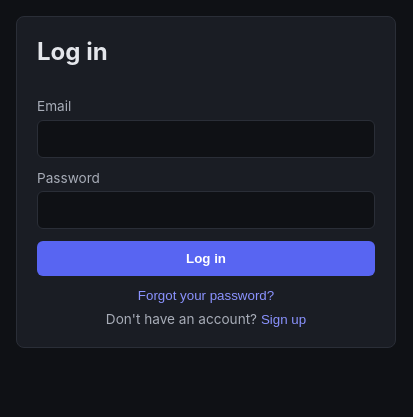
Test case: log in › shows the server's message when logging in fails
Type "ada@example.com" into the field labelled "Email". click: (206, 139)
box: [37,120,375,158]
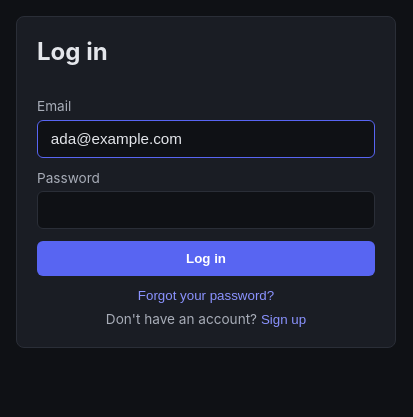
Type "wrong-password" into the password field labelled "Password". click: (206, 210)
box: [37,191,375,230]
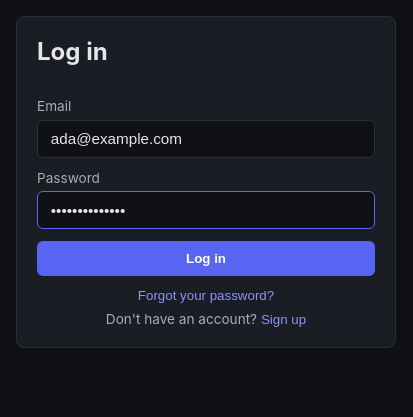
Click the button "Log in". click: (206, 259)
box: [37,242,375,276]
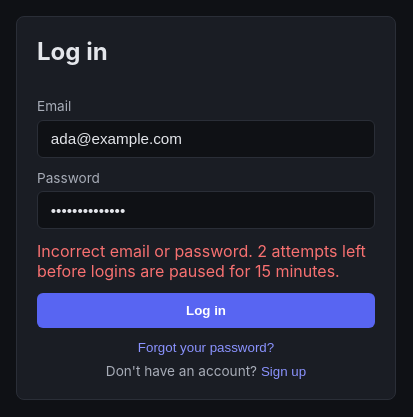
Expected: the text "2 attempts left" is shown, [37,242,366,282]
